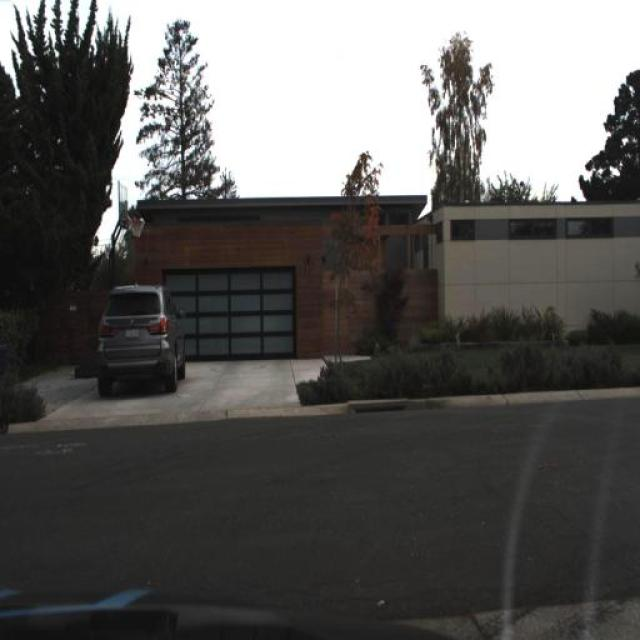car: (88, 277, 191, 393)
